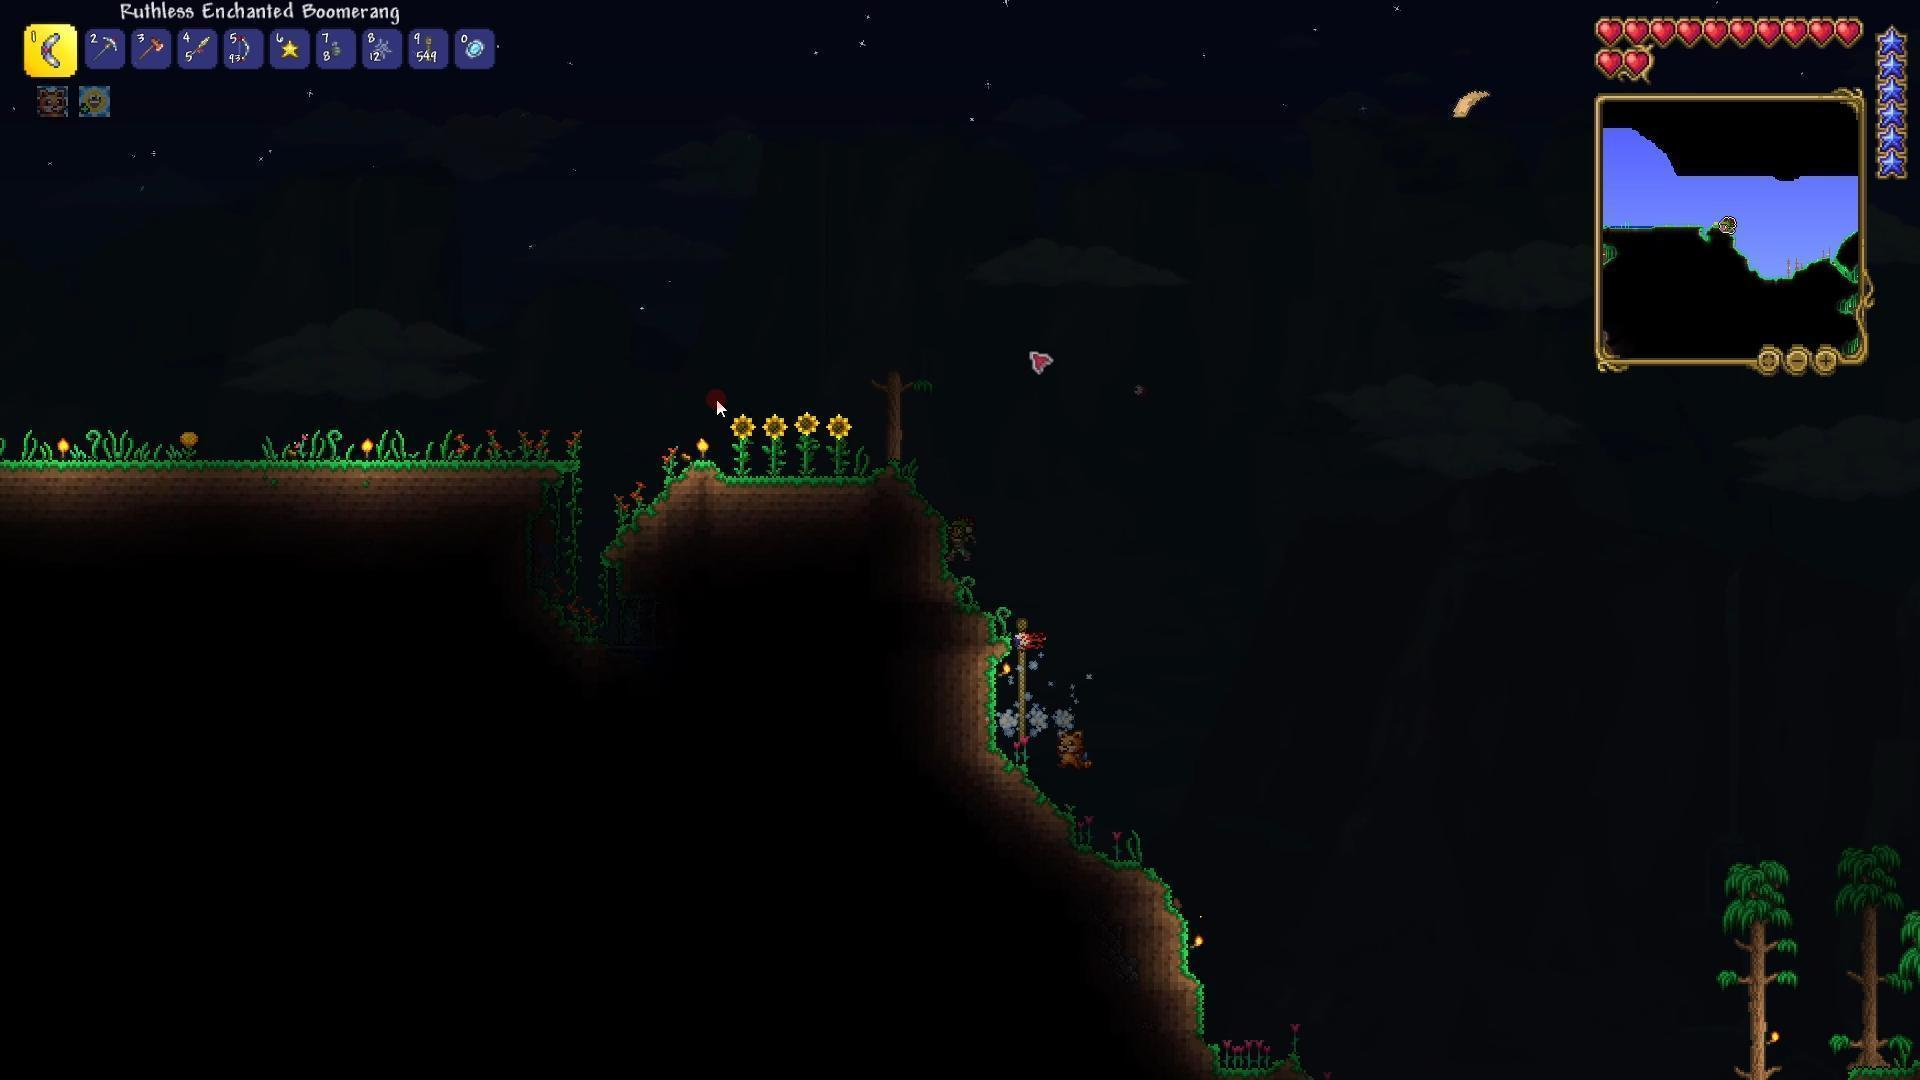bow: (227, 33, 258, 66)
cobwebI: (371, 37, 396, 62)
eye: (1010, 628, 1046, 658)
grenade: (320, 34, 349, 66)
mirror: (459, 37, 492, 65)
pickaxe: (94, 36, 121, 62)
